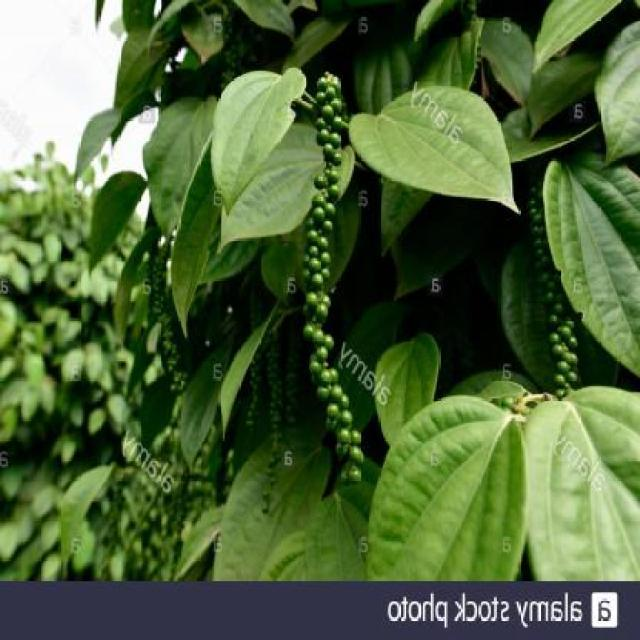UNRIPE: (302, 74, 363, 485), (536, 174, 582, 389), (256, 315, 290, 517), (147, 240, 176, 402)
